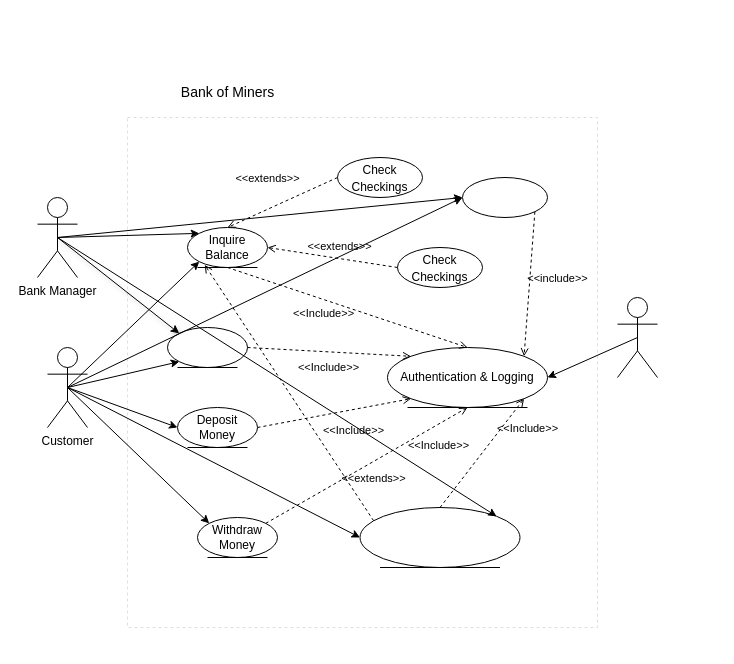
Some shapes in this 734 by 664 pixel diagram are drawn without their labels. Each missing label, with the centre of its shape:
Apply For Loan: pixel 505 197
Generate Account statement: pixel 439 537
System: pixel 637 337
Transfer Money: pixel 207 347
